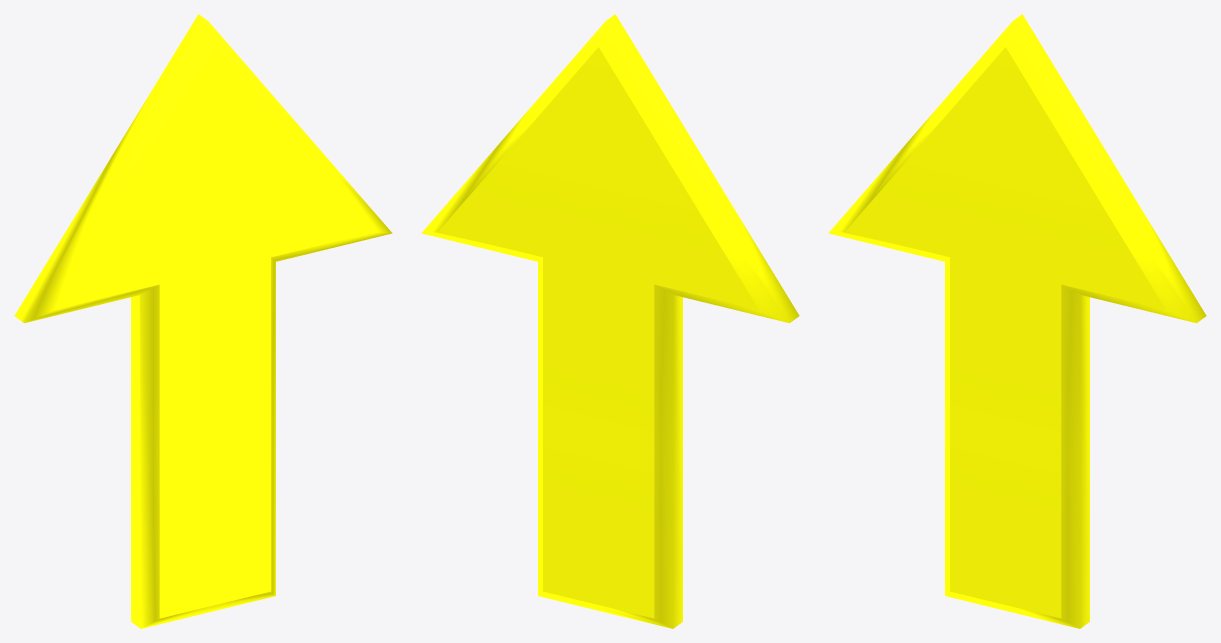
The picture shows the model from 3 angles, left to right: view 1: azimuth 30°, elevation 25°; view 2: azimuth 150°, elevation 25°; view 3: azimuth 330°, elevation 25°; orthographic projection.
Visible parts, largest first — view 1: IndicatorArrowUpYellow; view 2: IndicatorArrowUpYellow; view 3: IndicatorArrowUpYellow.
Boxes of the visible parts, left/top/right/bottom form: IndicatorArrowUpYellow: left=14, top=14, right=392, bottom=628; IndicatorArrowUpYellow: left=421, top=14, right=799, bottom=628; IndicatorArrowUpYellow: left=828, top=14, right=1206, bottom=628.
Size of the model in its own units: 0.45 by 0.69 by 0.05.
Materials: 1 (1 with a texture image).
